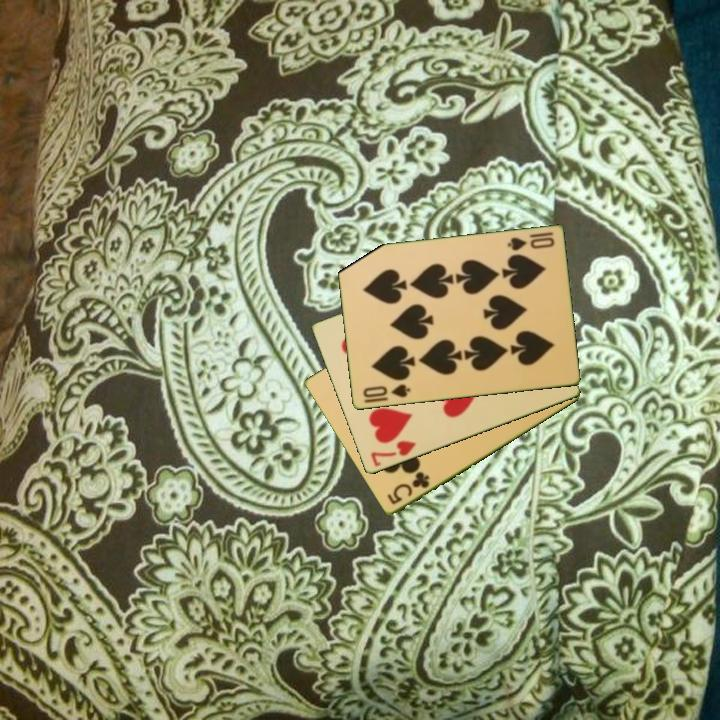10s: (503, 229, 557, 254), (360, 381, 413, 401)
5c: (383, 468, 433, 508)
7h: (367, 437, 419, 470)
